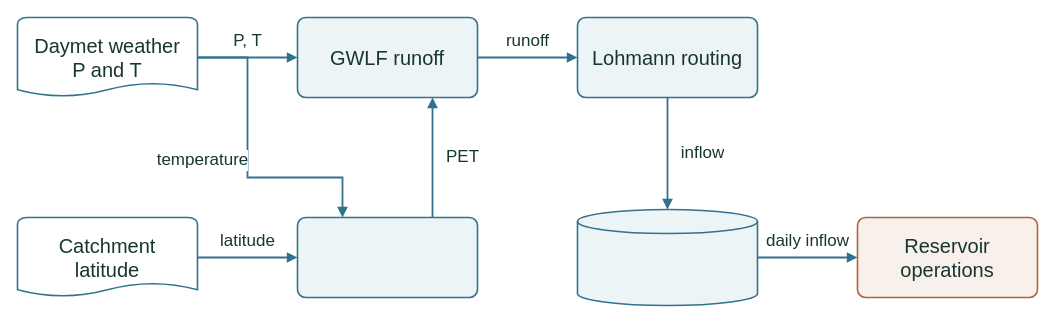
The diagram is 1056 pixels wide and 324 high, and some of its shapes have lost their labels. The box of each missing label's shape, as (x1, y1, x2, y2) in pixels:
Hamon PET: (296, 216, 478, 298)
Saved daily inflow: (576, 208, 758, 306)
